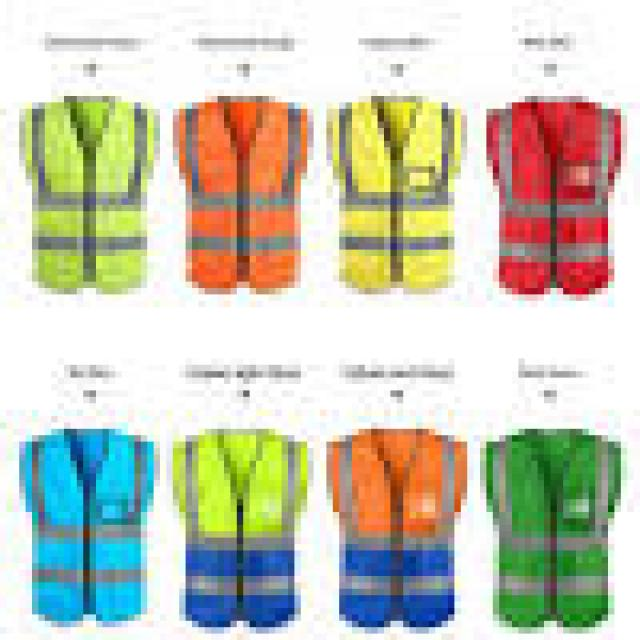Reflective-Jacket: (461, 416, 640, 640), (7, 83, 166, 314), (321, 398, 469, 640), (483, 90, 631, 296), (8, 428, 156, 630), (328, 88, 464, 298), (179, 88, 314, 298), (184, 428, 313, 634)
